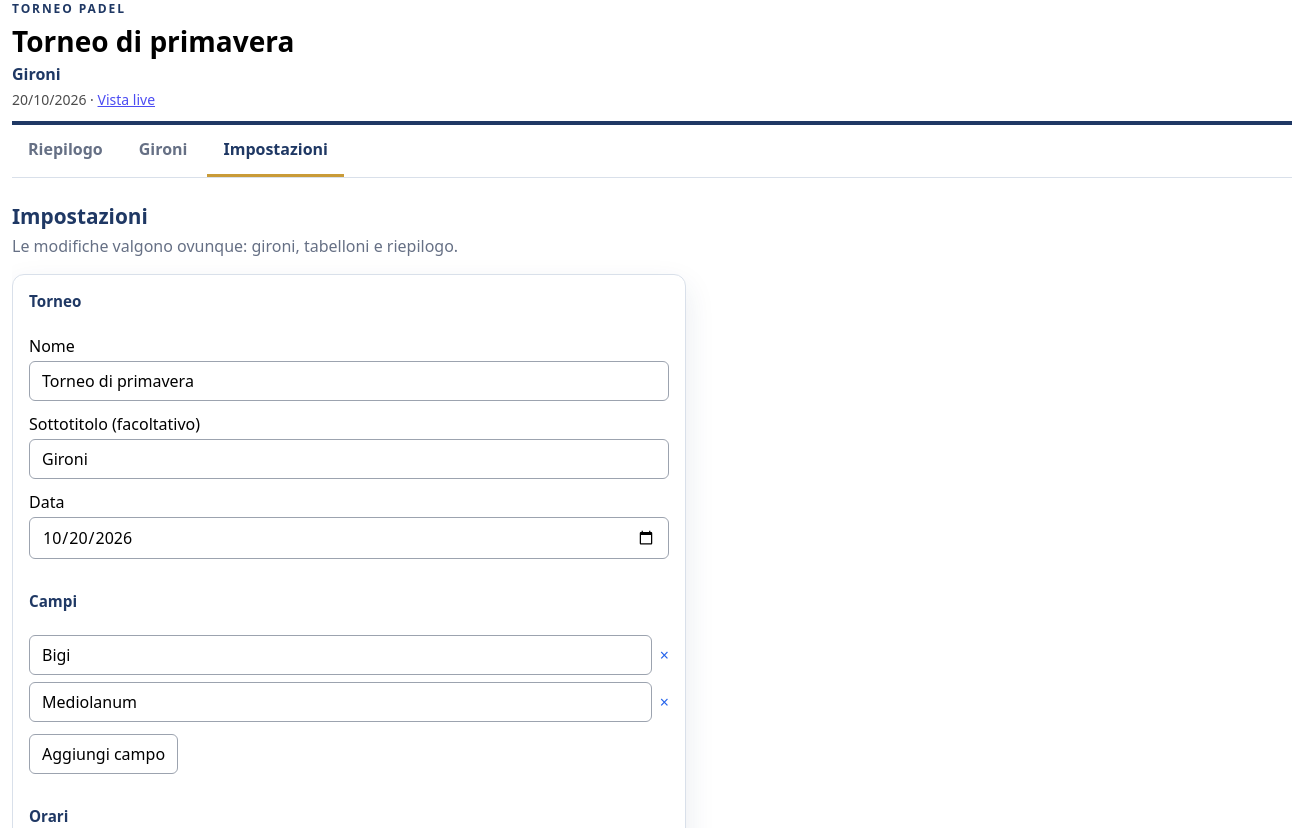
it: TournamentPage › settings › saves name, courts and times, warning before removing a court in use
The width and height of the screenshot is (1304, 828).
Replace the text in the field labelled "Nome" with "Torneo d’estate": (349, 381) [29, 361, 669, 401]
Replace the text in the field named "Nome campo 2" with "Centrale": (340, 702) [29, 682, 652, 722]
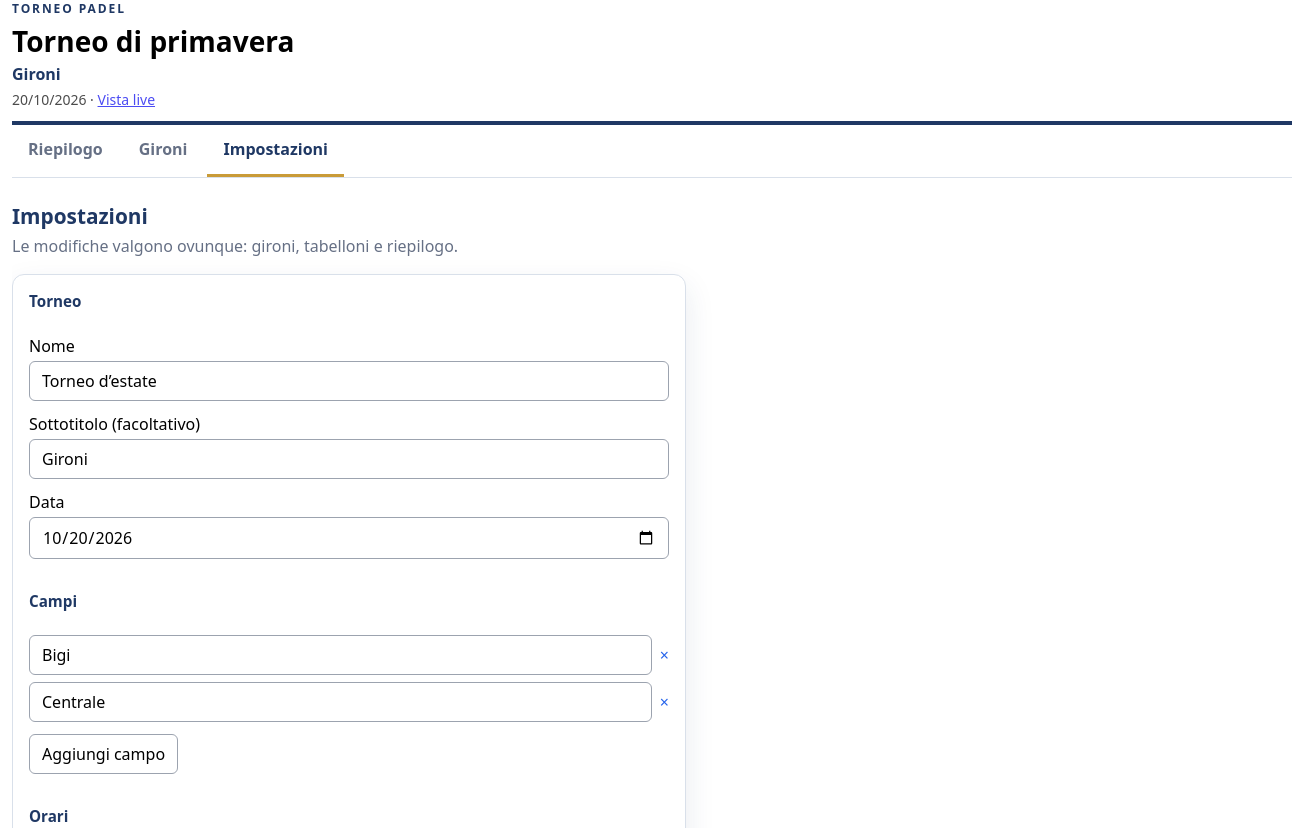
Click the button named "Rimuovi Bigi": (664, 655) [660, 644, 669, 666]
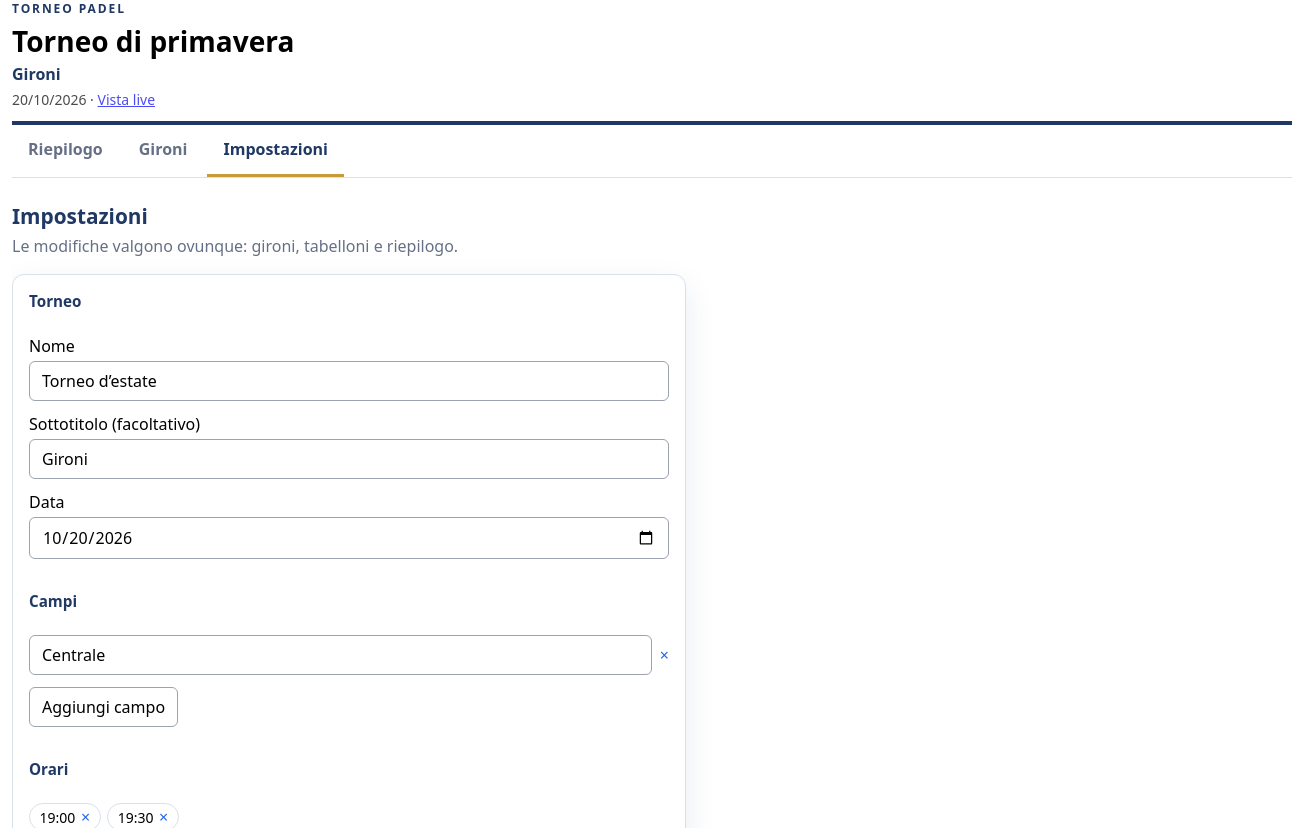
Click the button "Aggiungi campo": (104, 707) [29, 687, 178, 727]
(page scrolled)
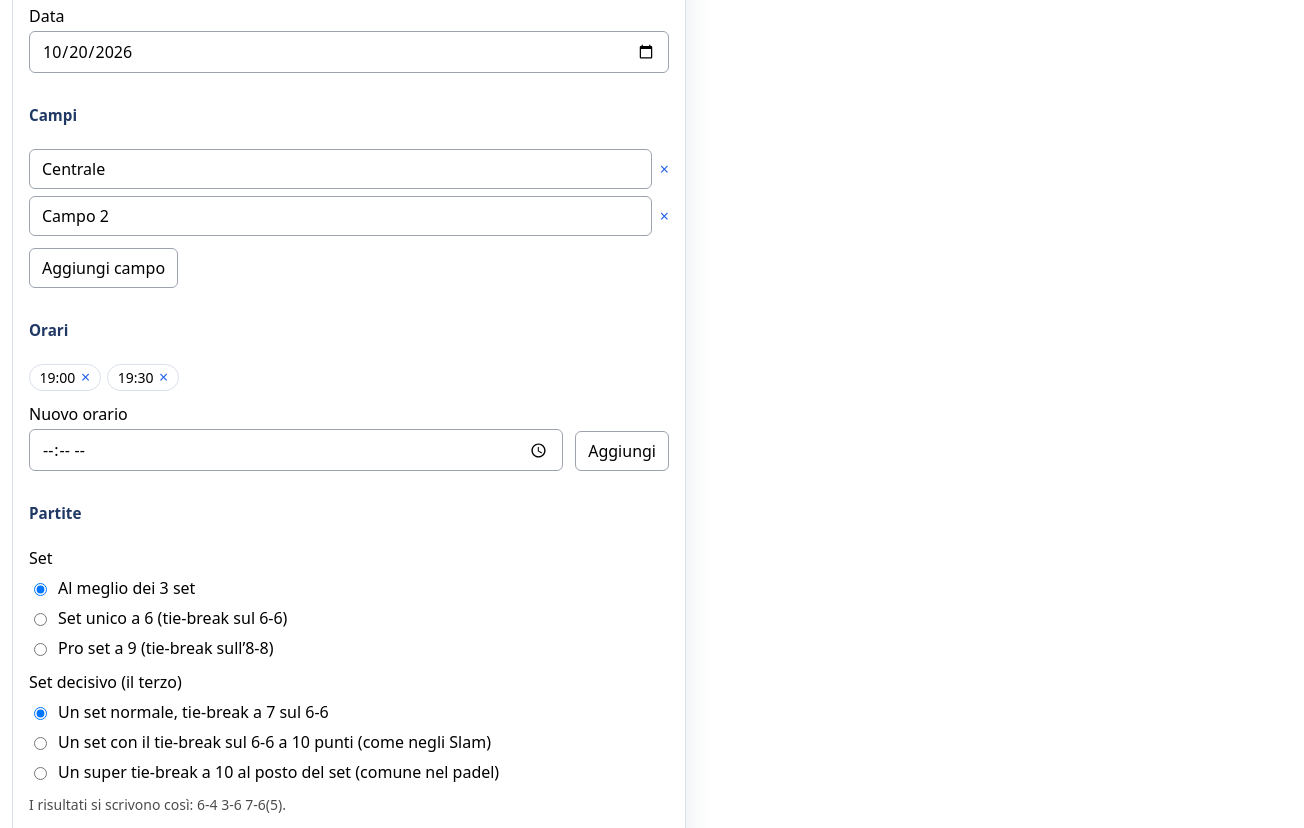
In the time field labelled "Nuovo orario": (296, 450) [29, 429, 563, 471], type "18:30"
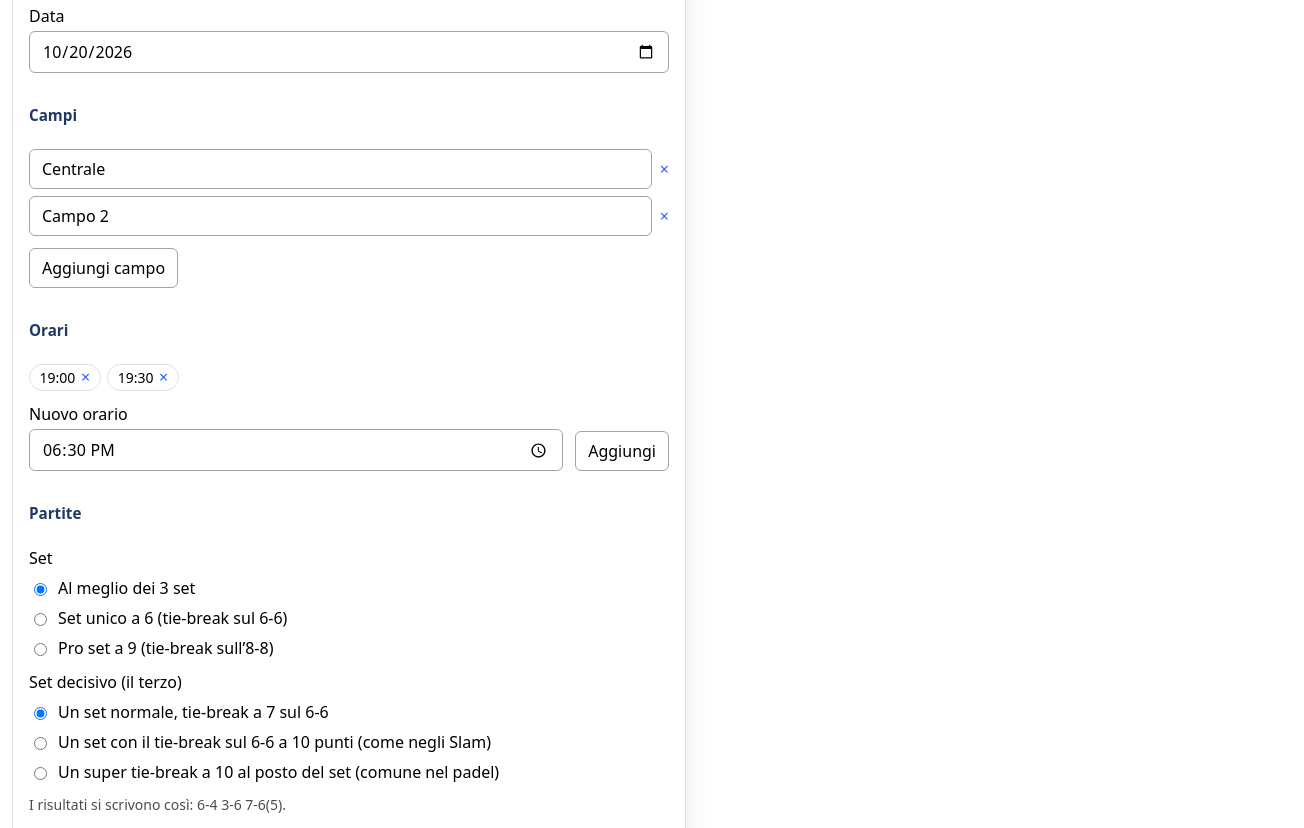
Click the button "Aggiungi": (622, 451) [575, 431, 669, 471]
(page scrolled)
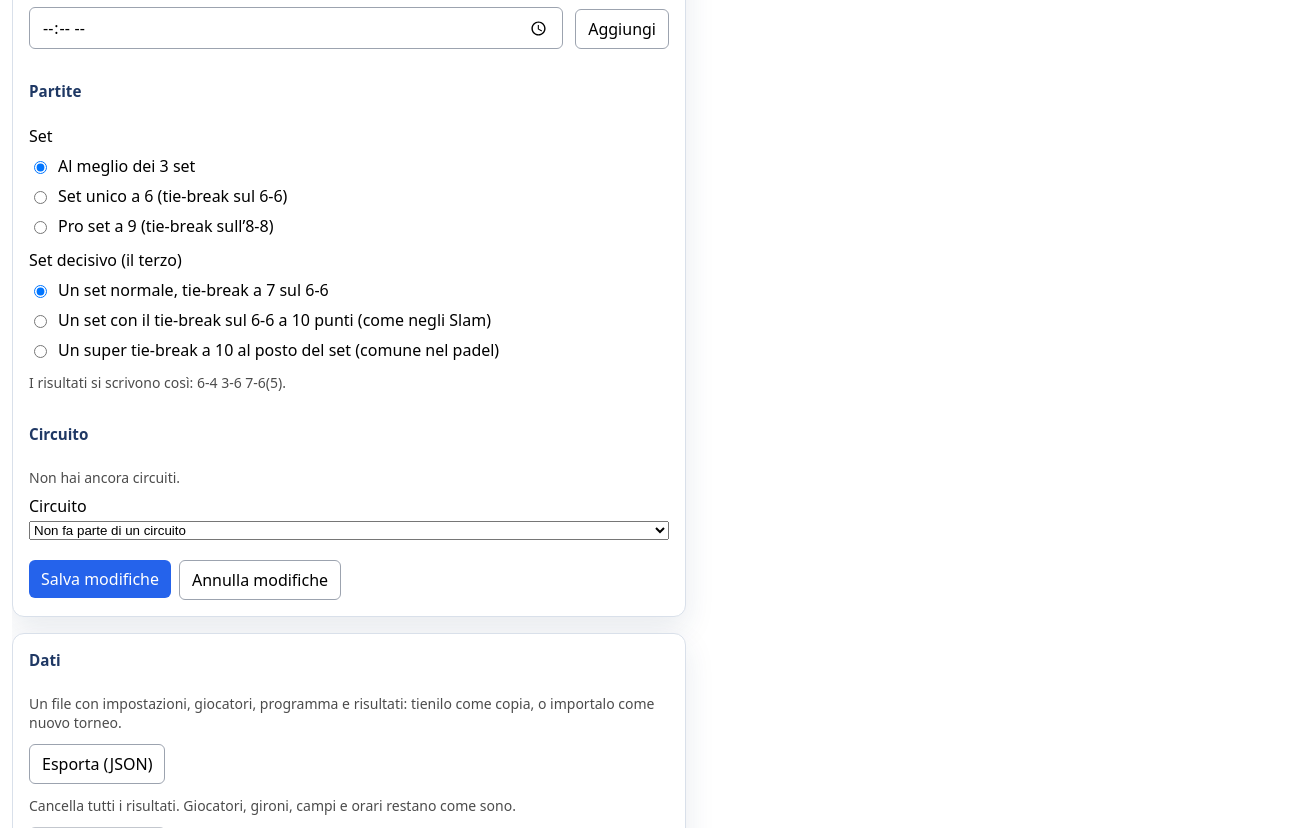
Click the button "Salva modifiche": (100, 579) [29, 560, 171, 598]
(page scrolled)
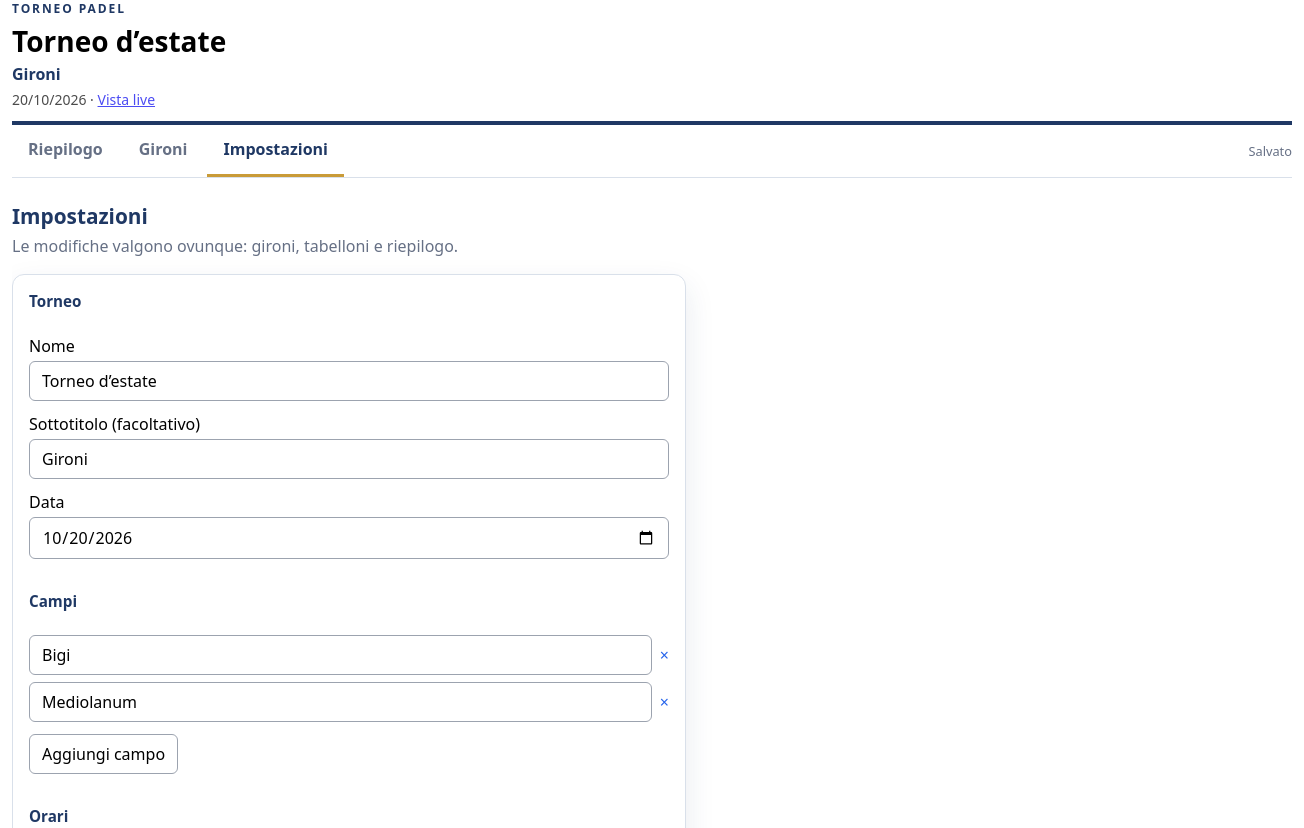
Check: the heading "Torneo d’estate Gironi" is shown, box [12, 22, 226, 85]
